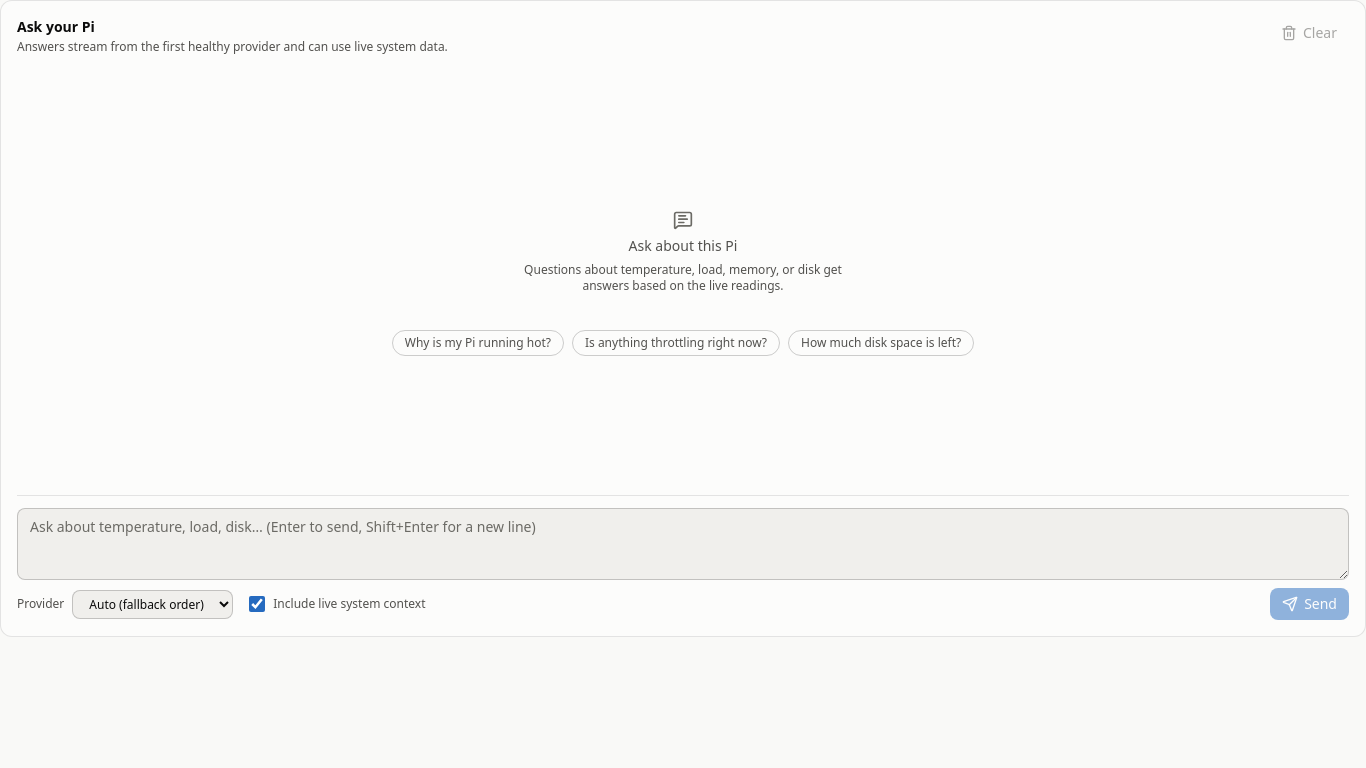
Test case: ChatPanel › streams an answer with provider badge, timings and fallback notice
Type "Why is my Pi hot?" into the text box named "Message".
click(683, 544); type("Why is my Pi hot?")  # box [17, 508, 1349, 580]
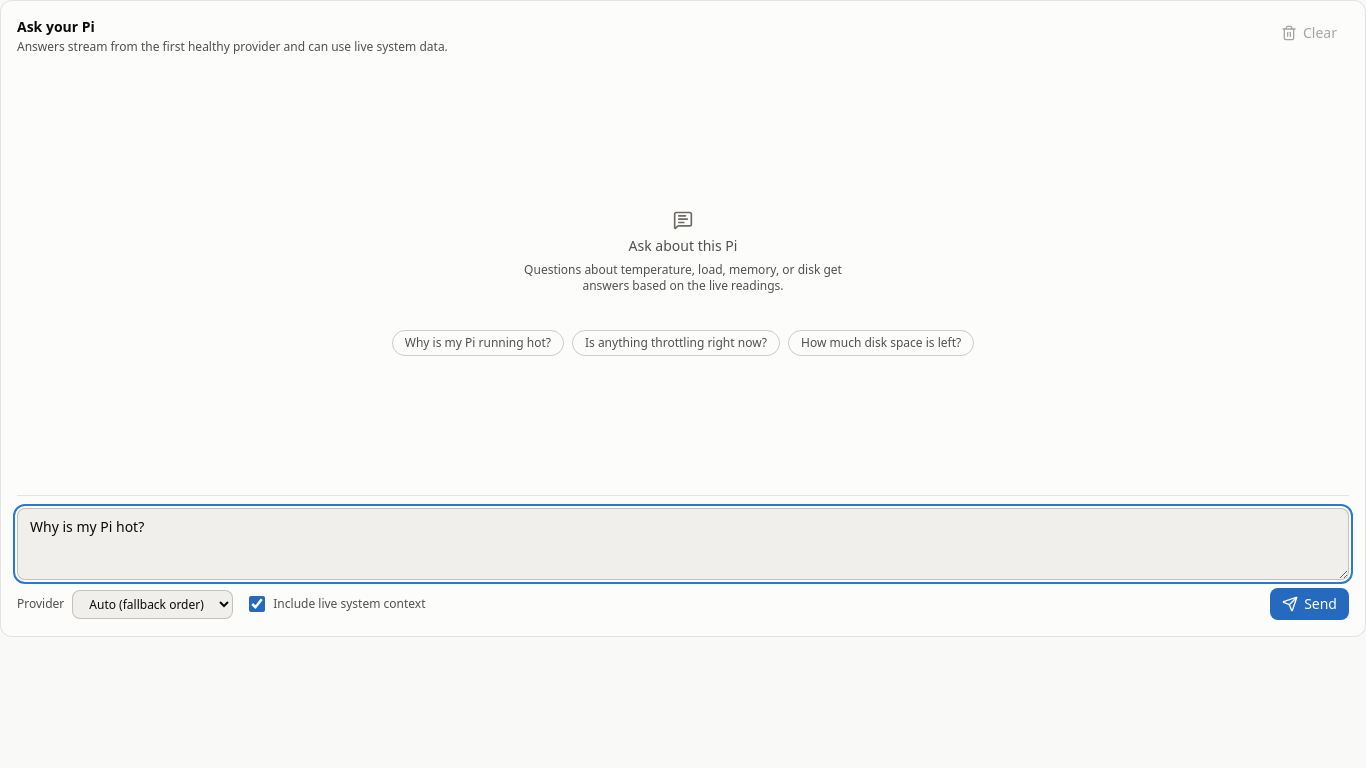
Click the button "Send".
click(1310, 604)  # box [1270, 588, 1349, 620]
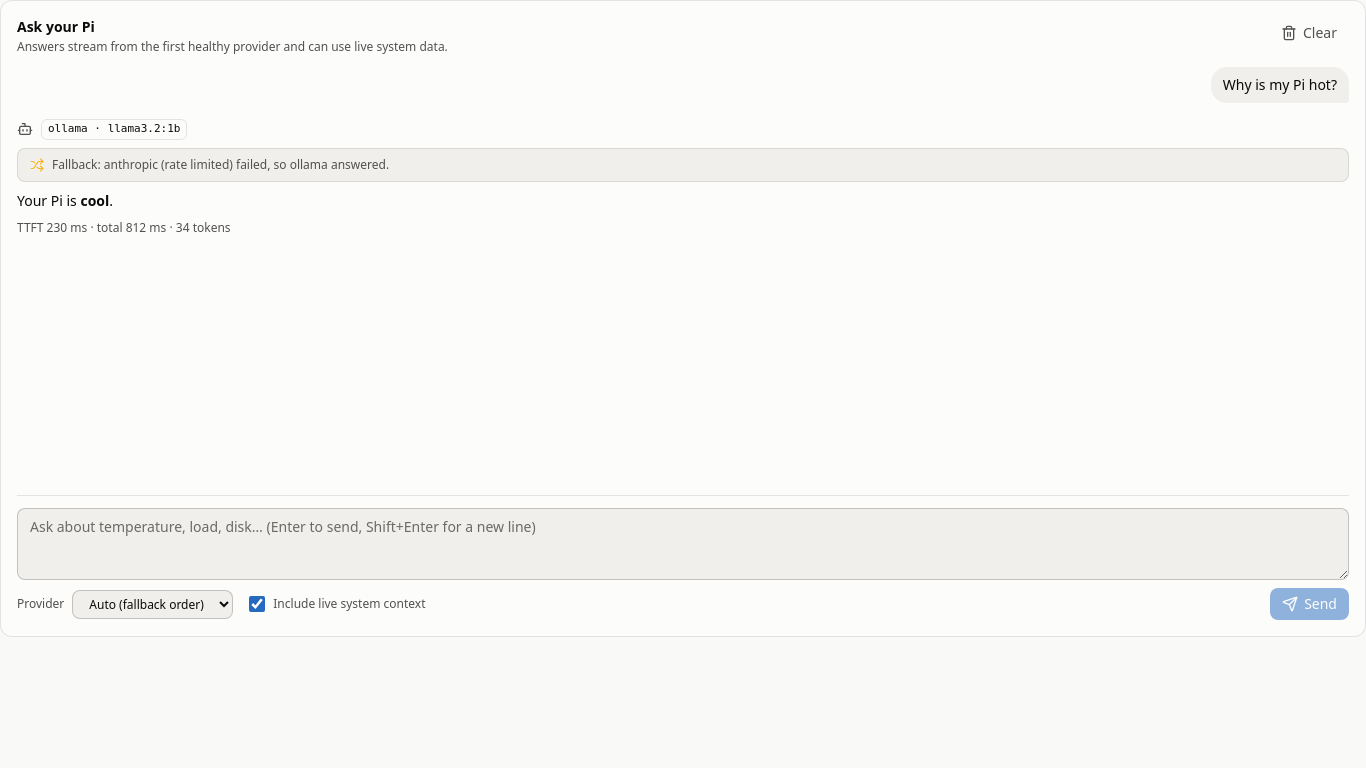
Expected: the text "cool" is shown, [80, 191, 109, 210]
Expected: the text "Your Pi is cool." is shown, [17, 191, 113, 210]
Expected: the text with test id "provider-badge" reads "ollama · llama3.2:1b", [41, 119, 188, 140]
